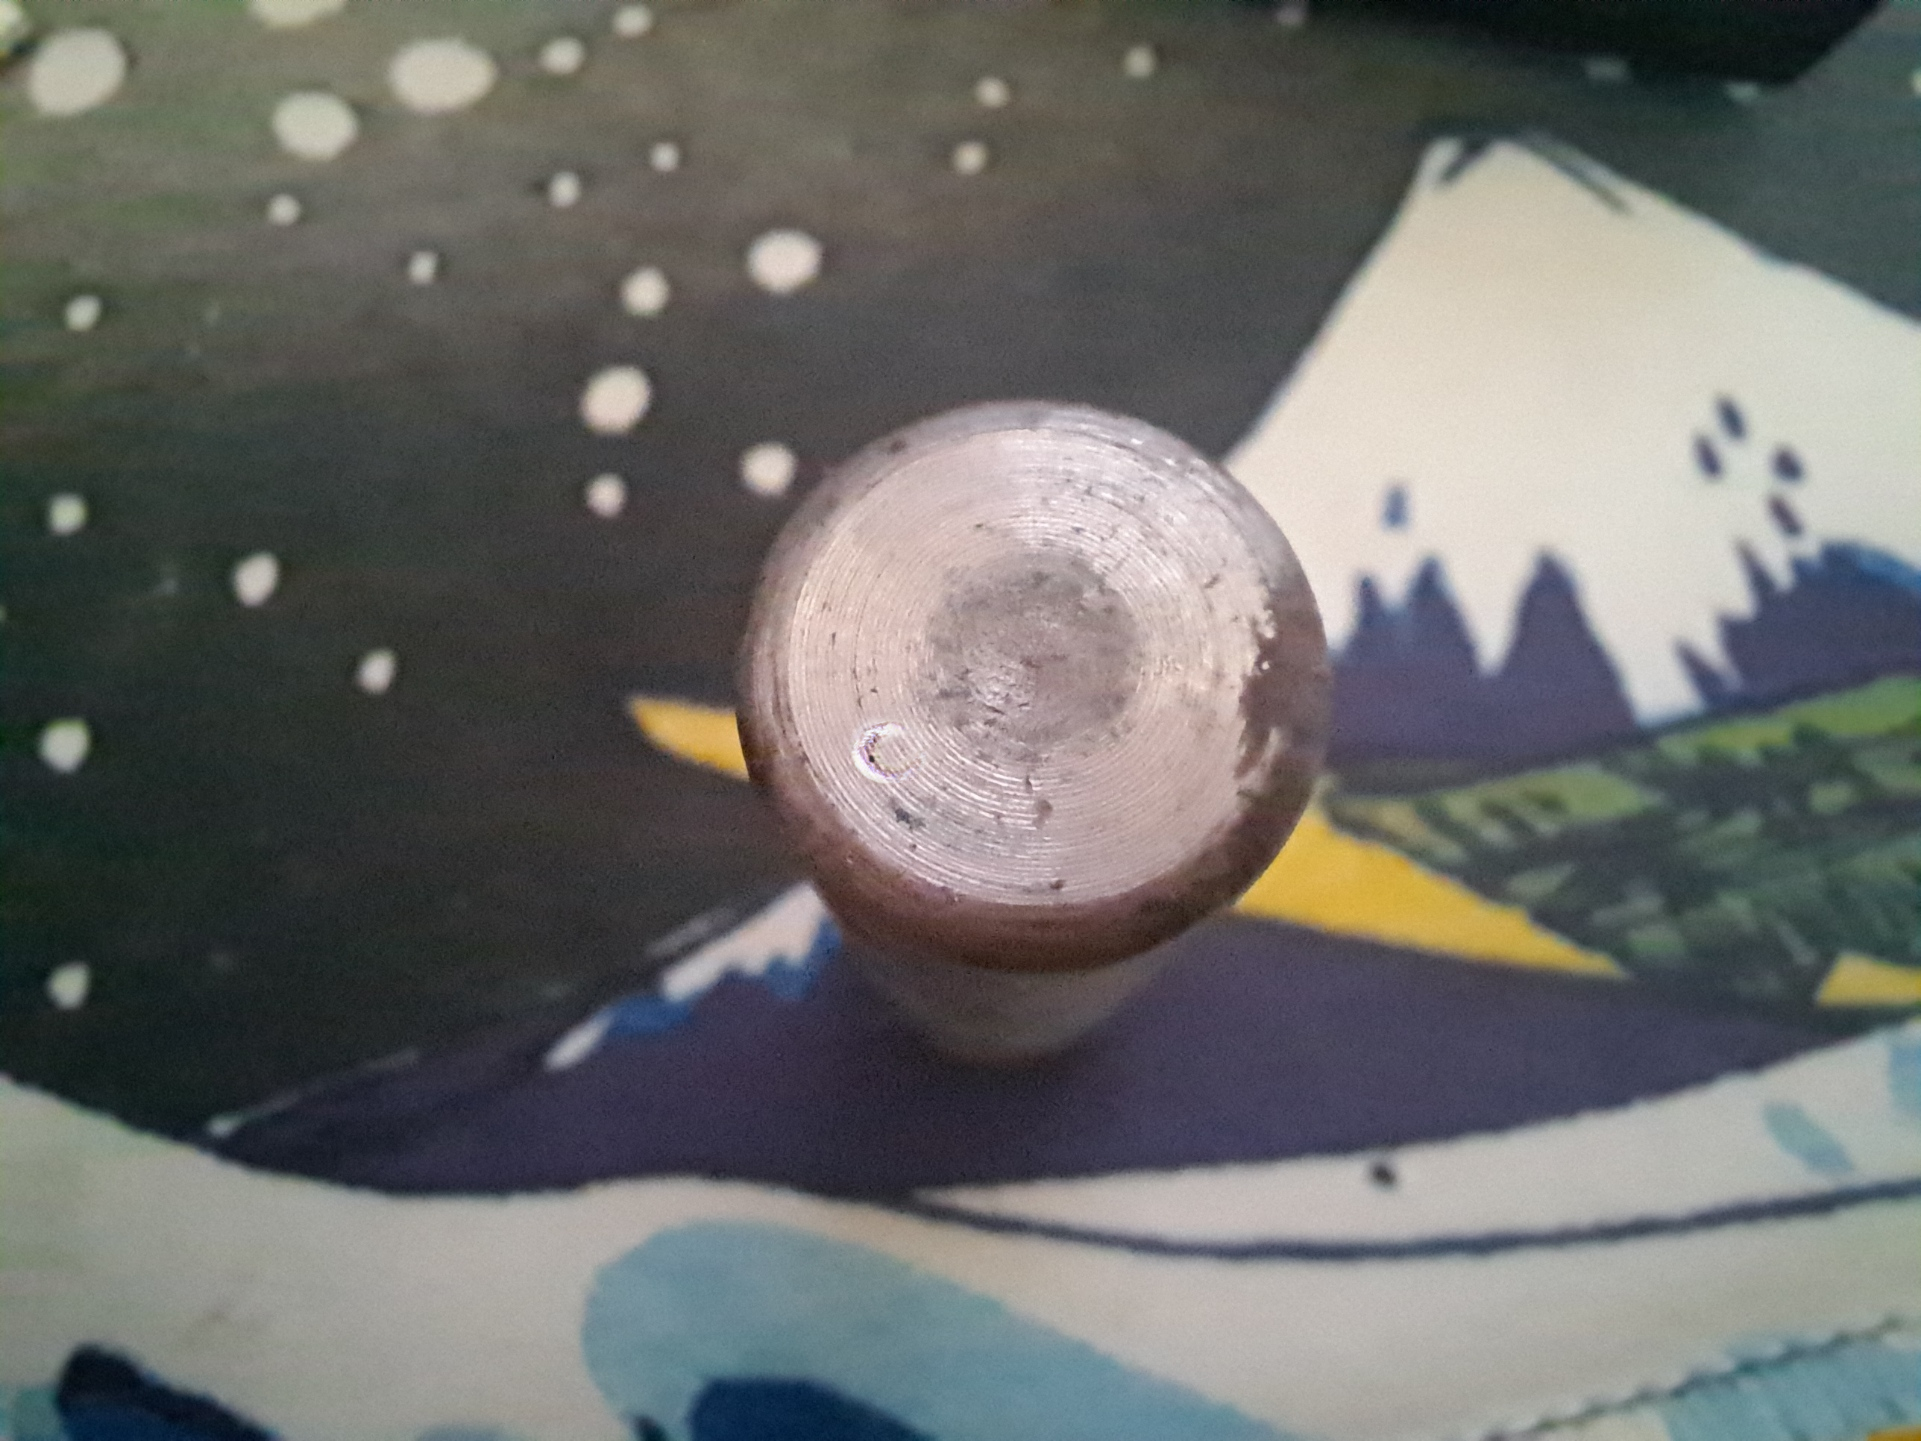плансон: (733, 392, 1331, 1075)
повреждение: (849, 716, 931, 784)
